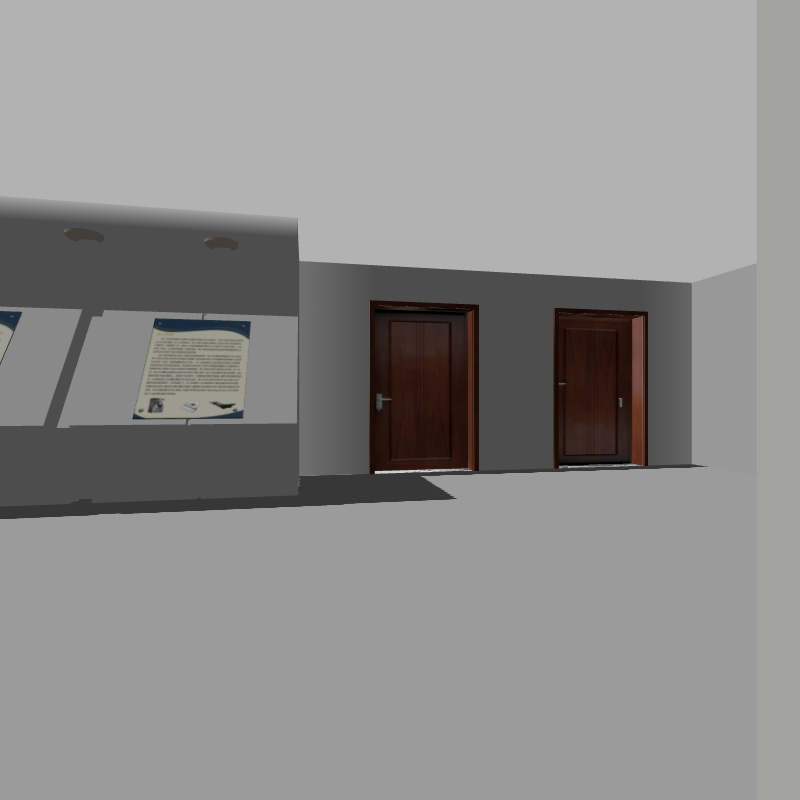handle: (369, 388, 391, 411), (547, 375, 570, 389)
